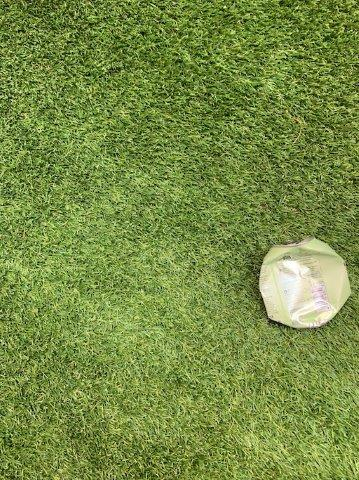kaleng: (257, 237, 352, 329)
